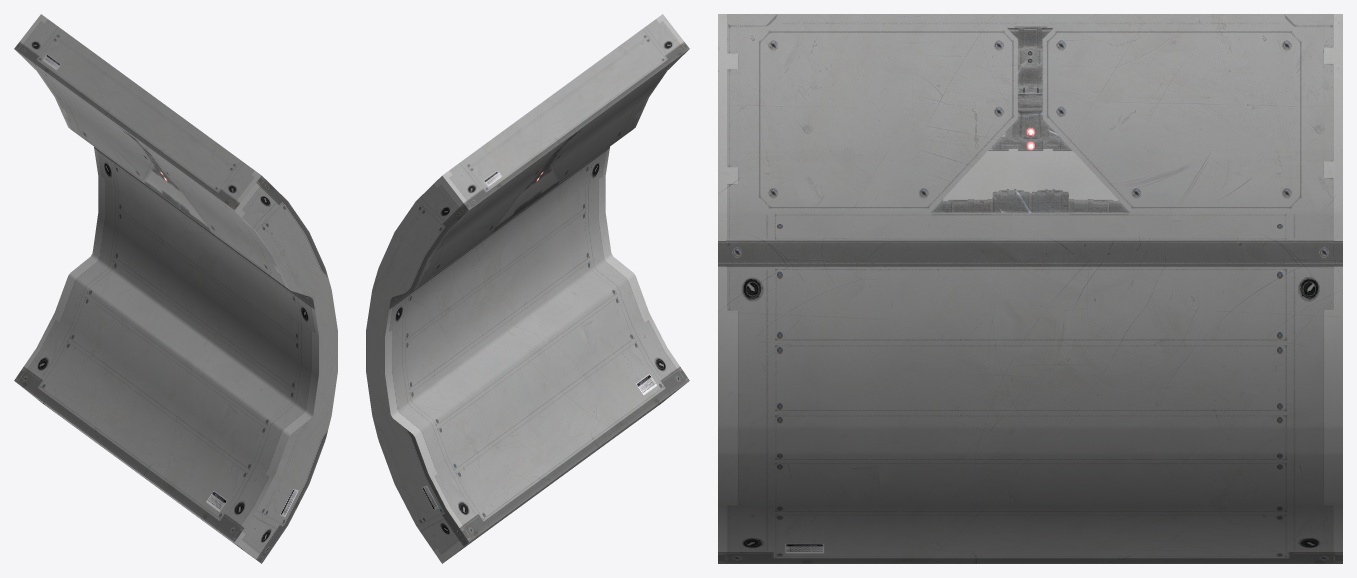
The model's file is SM_Walls_CURVED03.fbx.
The picture shows the model from 3 angles, left to right: view 1: azimuth 30°, elevation 25°; view 2: azimuth 150°, elevation 25°; view 3: azimuth 270°, elevation 25°; orthographic projection. The views are drawn at different scales.
Visible parts, largest first — view 1: SM_Walls_CURVED03_LOD0; view 2: SM_Walls_CURVED03_LOD0; view 3: SM_Walls_CURVED03_LOD0.
Part boxes in pixels (x1,y1,x2,y2): SM_Walls_CURVED03_LOD0: (14,14,337,563); SM_Walls_CURVED03_LOD0: (366,14,689,563); SM_Walls_CURVED03_LOD0: (718,14,1342,563).
Size of the model in its own units: 108 by 400 by 388.
